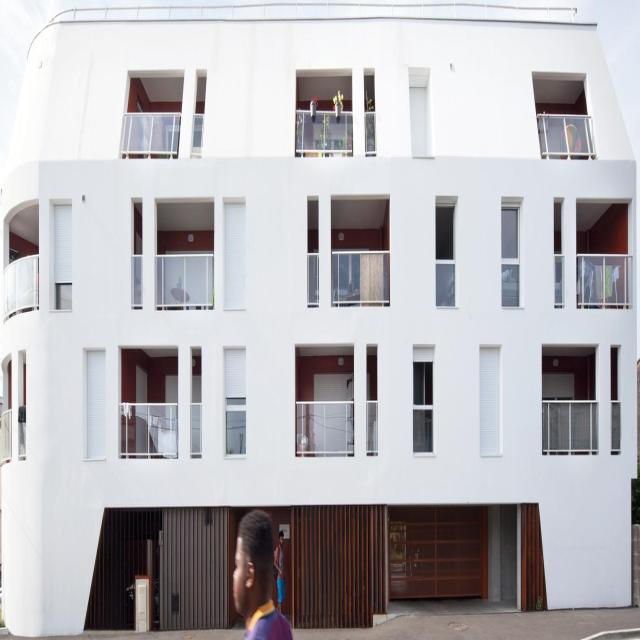Railing: (155, 250, 215, 310), (118, 402, 178, 458), (330, 250, 389, 306), (119, 108, 183, 159), (296, 399, 353, 456), (541, 397, 599, 453), (576, 254, 633, 308), (535, 111, 597, 158), (294, 108, 353, 157), (2, 251, 37, 322)
door: (384, 505, 486, 594)
wall: (0, 2, 636, 638)
windows: (223, 201, 246, 310), (225, 352, 245, 456), (481, 351, 501, 455), (435, 206, 454, 304), (412, 363, 432, 455), (500, 208, 518, 306), (55, 205, 72, 308), (312, 372, 353, 400), (411, 86, 426, 159), (540, 373, 575, 402), (130, 254, 142, 310), (364, 400, 376, 456), (608, 400, 620, 451), (552, 254, 563, 306), (190, 402, 200, 458), (308, 252, 318, 306), (365, 110, 376, 154), (135, 365, 147, 401), (165, 373, 178, 403), (191, 373, 201, 402)
